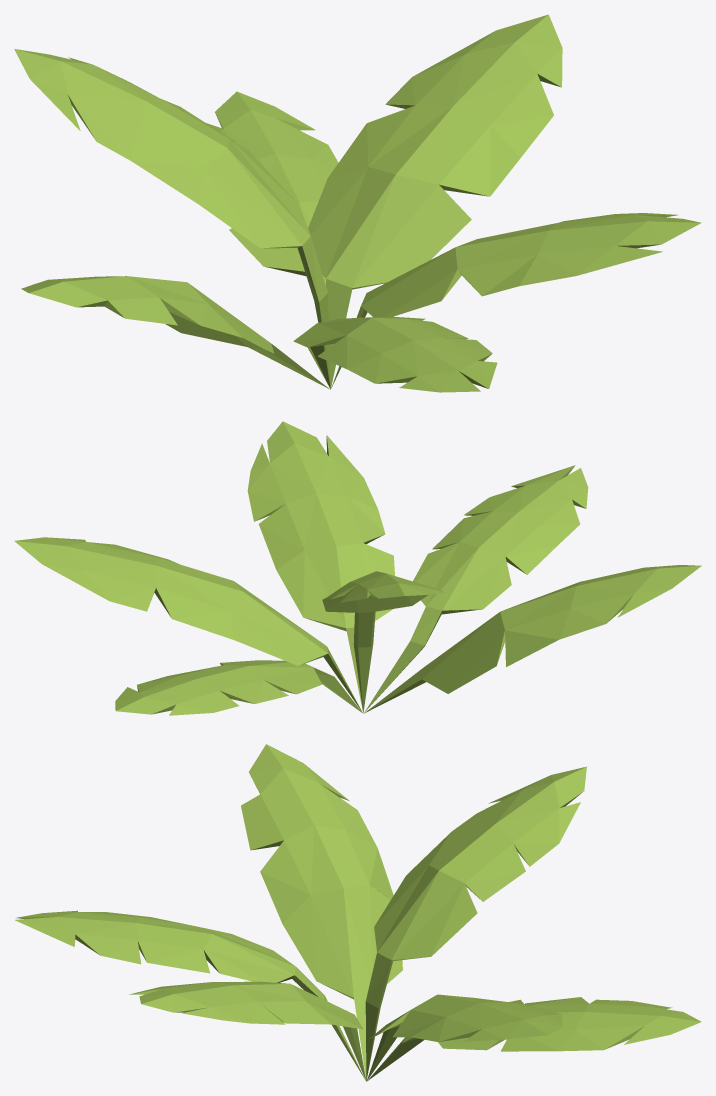
File: Plant_6.fbx
3 views of the same model, one above another, from view 1: azimuth 30°, elevation 25°; view 2: azimuth 150°, elevation 25°; view 3: azimuth 270°, elevation 25° (orthographic). The views are drawn at different scales.
Parts seen in each view (by area): view 1: Plant_6; view 2: Plant_6; view 3: Plant_6.
Part boxes in pixels (bbox=[...]): Plant_6: bbox=[14, 14, 701, 392]; Plant_6: bbox=[14, 421, 701, 715]; Plant_6: bbox=[15, 744, 701, 1081].
Bounding box in the file's own units: 1.3 × 0.5203 × 1.35.
